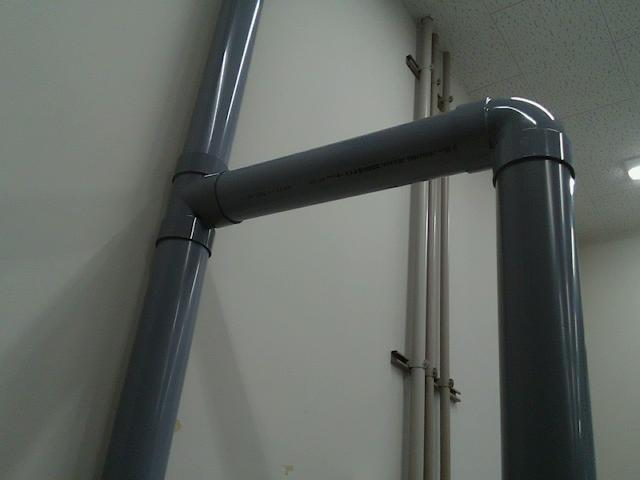bent: (452, 95, 578, 193)
junction: (154, 153, 244, 254)
